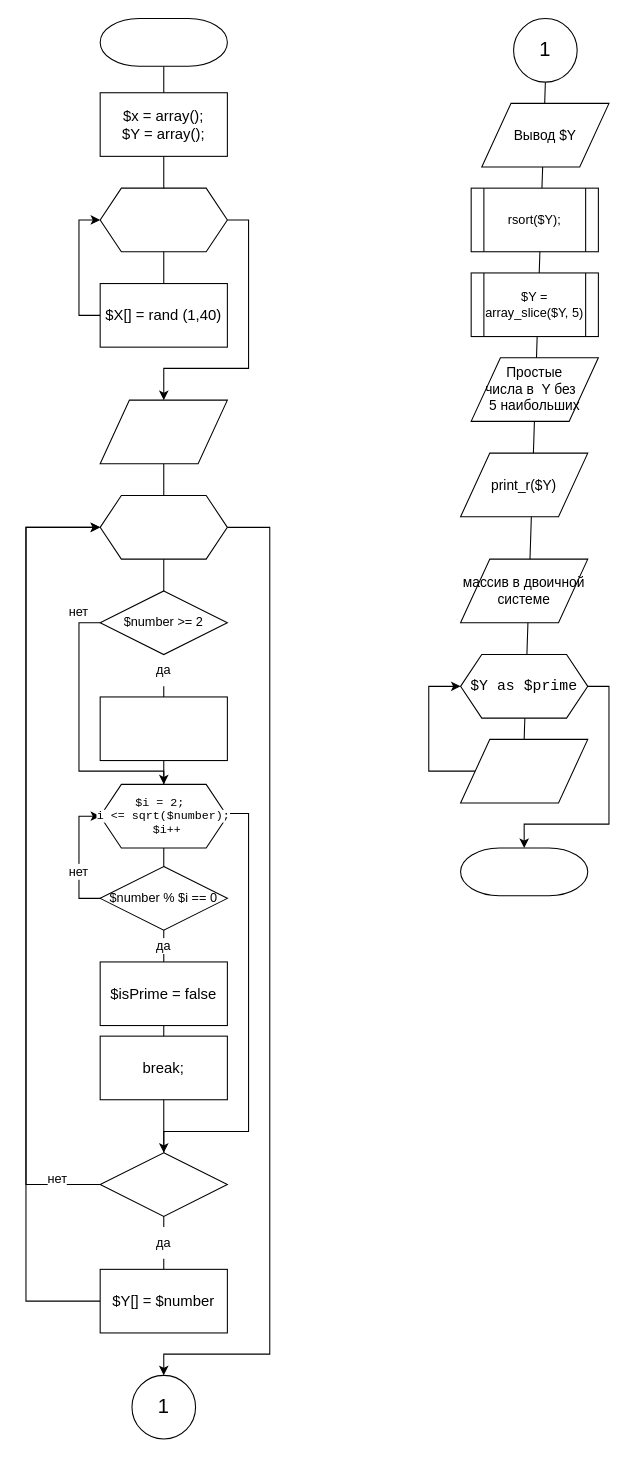
Some shapes in this 636 by 1457 pixel diagram are drawn without their labels. Here are the shapes that lost their labels. From the top down, the centre of each, then its label:
point 163,41: начало
point 163,219: $i = 0; $i < 20; $i++
point 163,431: Вывод $X
point 163,526: $X as $number
point 163,728: $isPrime = true
point 524,770: decbin($prime)
point 524,871: конец
point 163,1184: $isPrime
